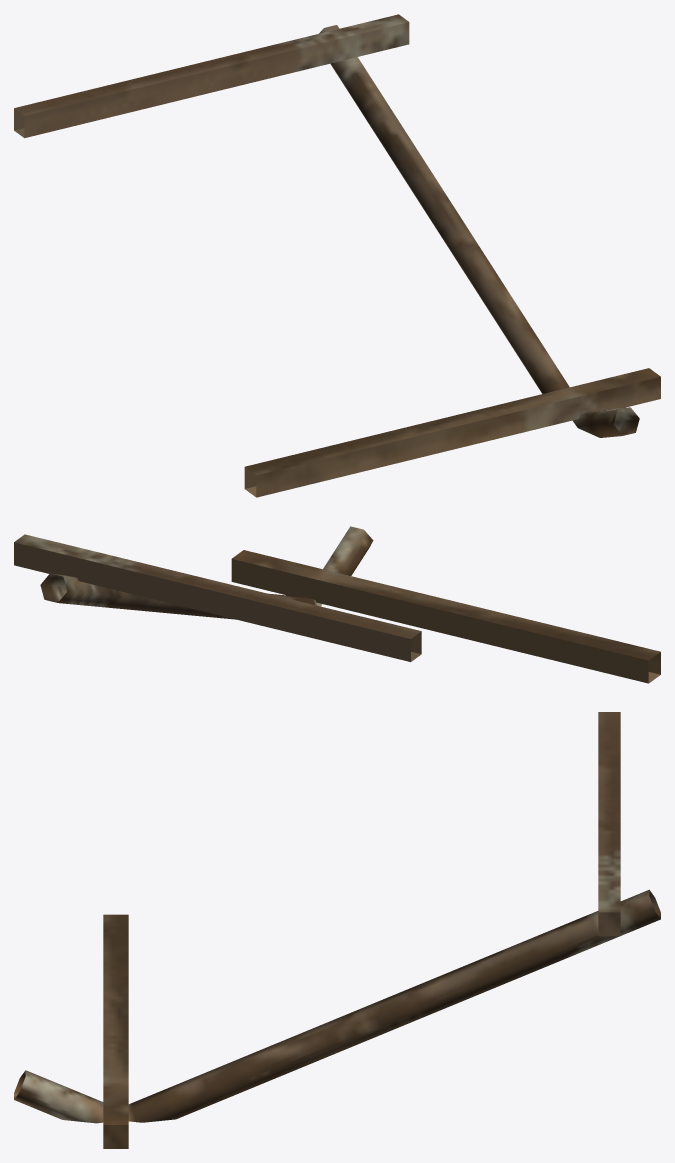
The model's file is section-2.obj.
The picture shows the model from 3 angles, top to bottom: view 1: azimuth 30°, elevation 25°; view 2: azimuth 150°, elevation 25°; view 3: azimuth 270°, elevation 25°; orthographic projection. The views are drawn at different scales.
Bounding box in the file's own units: 1.17 × 0.6007 × 1.52.
1 material, 1 textured.
